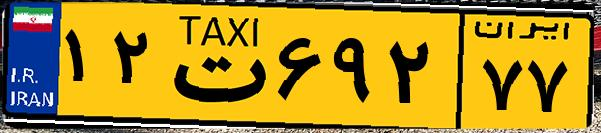1: (57, 26, 110, 100)
2: (385, 28, 445, 110), (110, 28, 158, 98)
6: (270, 28, 330, 110)
7: (475, 38, 525, 113), (525, 38, 570, 115)
9: (330, 28, 385, 110)
ت: (158, 12, 270, 120)
